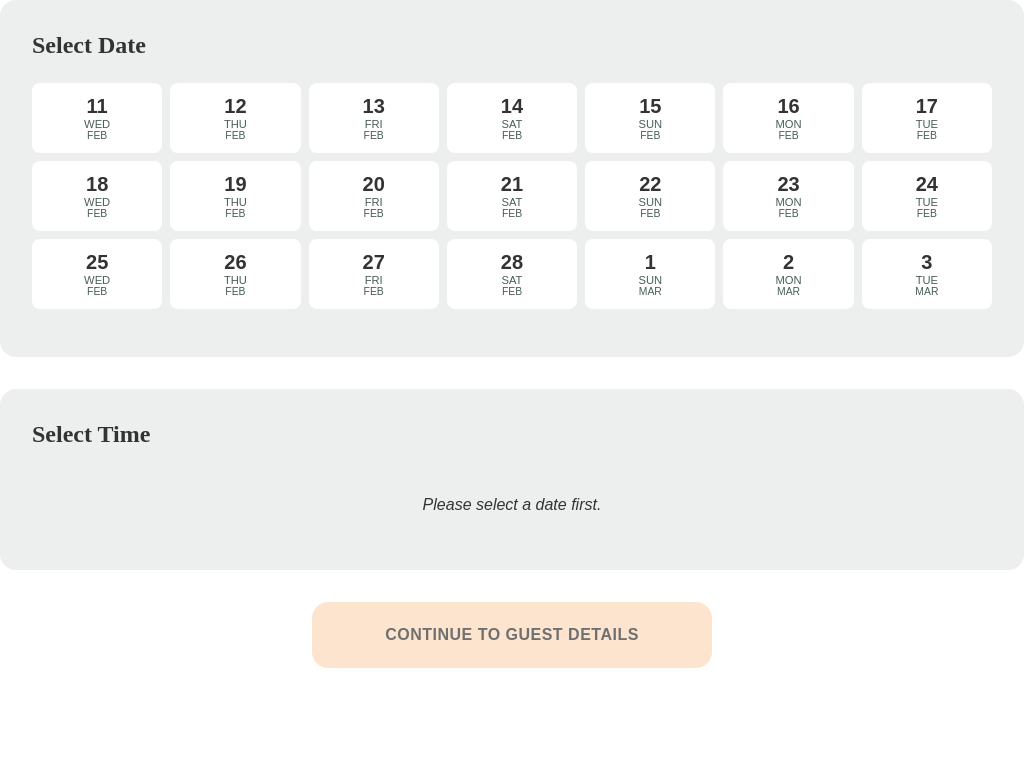
Scenario: BookingForm › continue button enables after selecting date and time
The width and height of the screenshot is (1024, 768).
Click the button with test id "date-button" showing "11 Wed Feb". click: (97, 118)
box: [32,83,162,153]
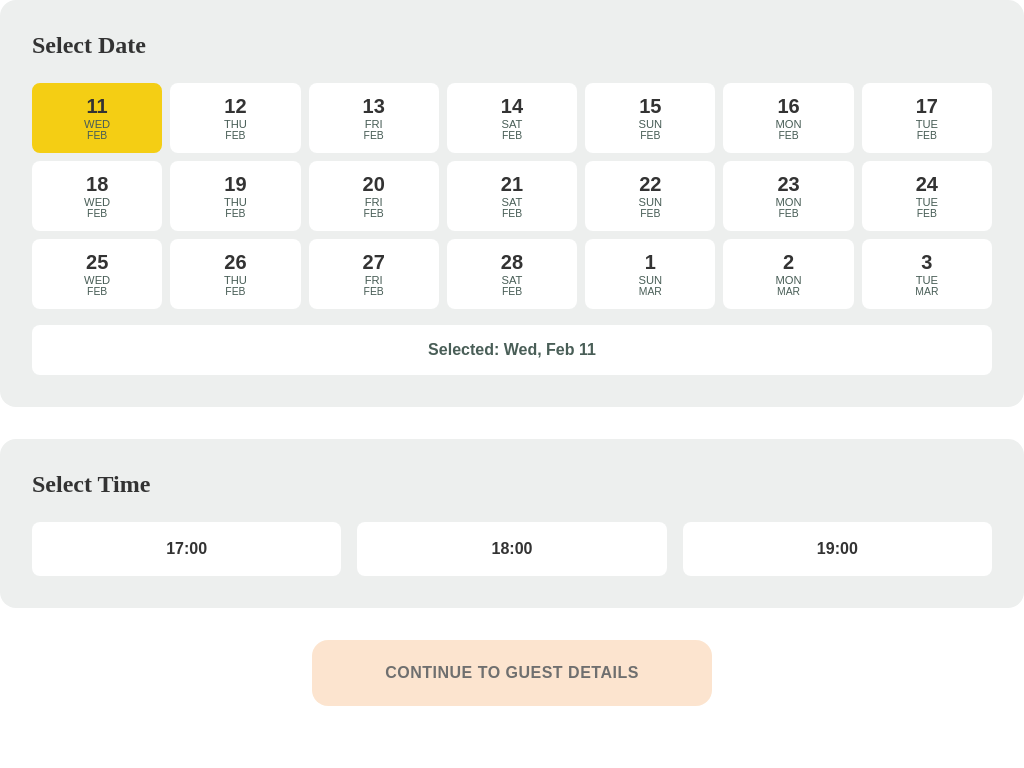
Check: the button "17:00" is shown
Click the button "17:00". click: (187, 549)
box: [32,522,341,576]
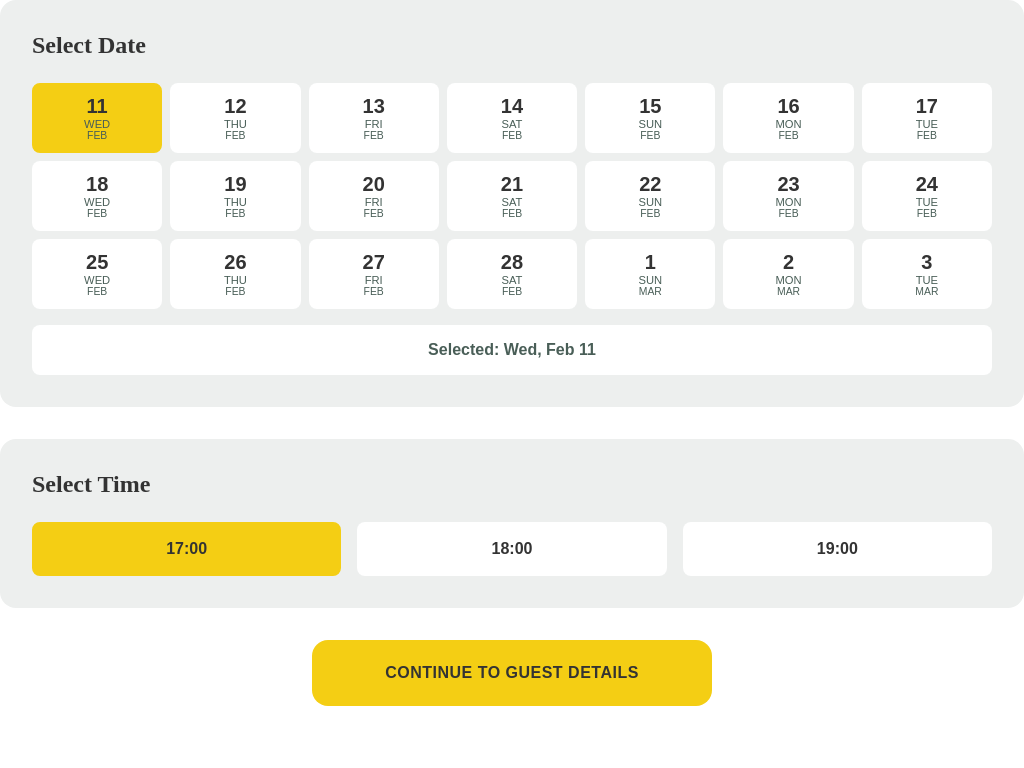
Check: the button "Continue to Guest Details" is enabled, box [312,640,712,706]
